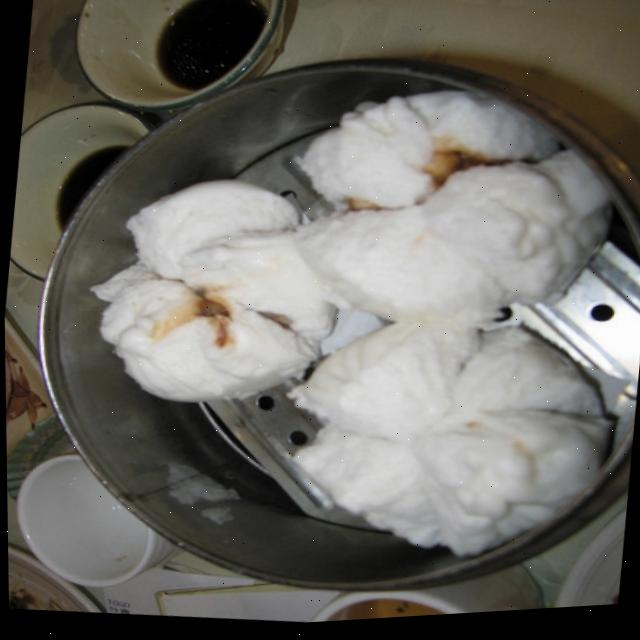带馅早点: (1, 19, 640, 640)
